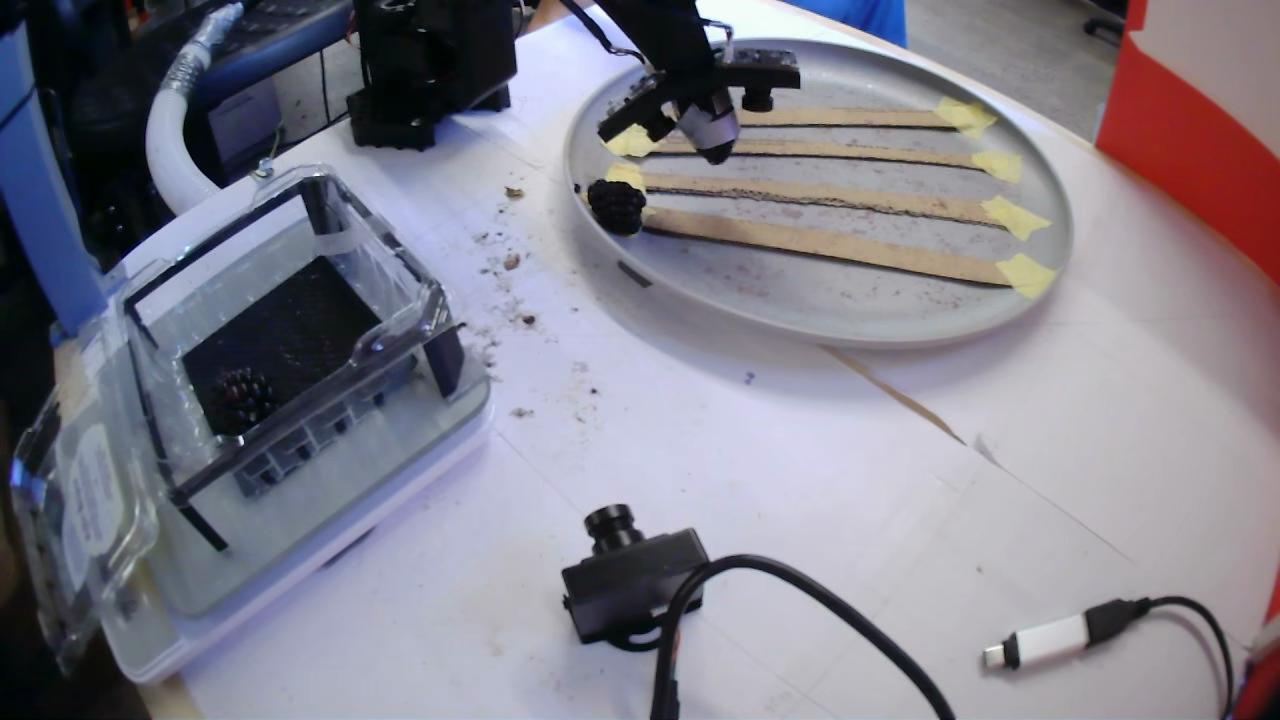berry: (218, 368, 274, 432), (586, 179, 645, 236)
